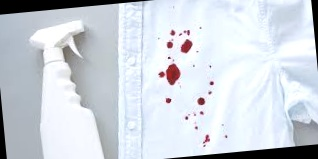blood: (182, 111, 206, 131), (165, 63, 182, 87), (179, 39, 195, 54), (169, 29, 191, 37), (202, 134, 212, 147), (198, 98, 206, 105), (165, 97, 172, 104), (206, 91, 214, 96), (167, 42, 173, 48), (209, 81, 216, 86)
